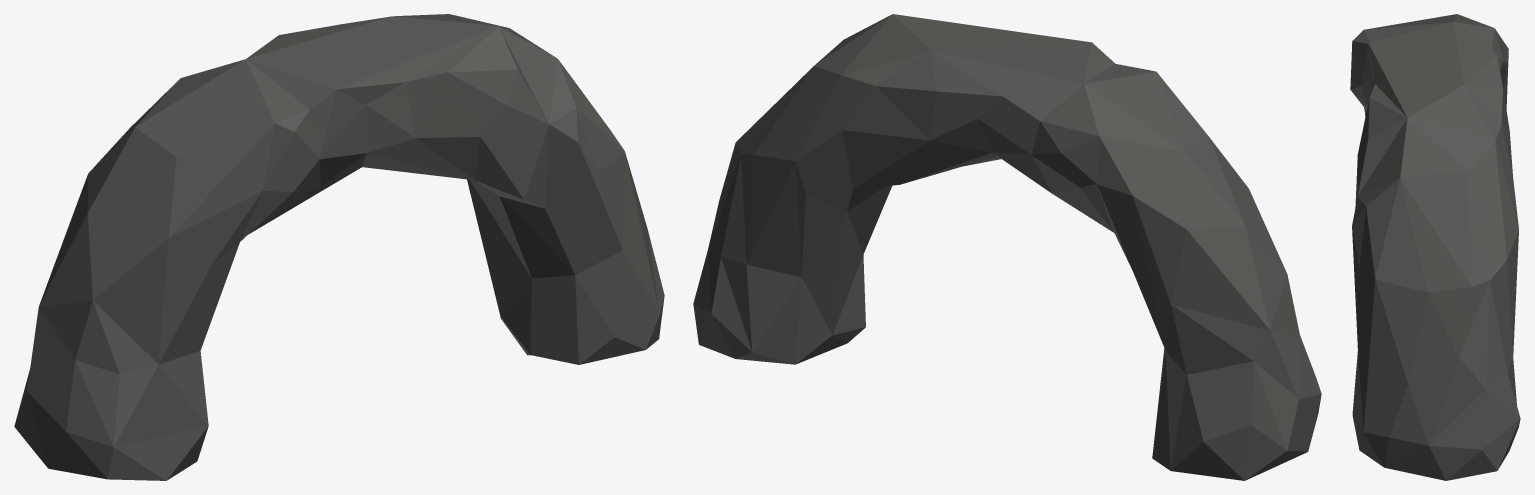
Rendered from SM_Envr_Nature_Rock_17.fbx.
3 views of the same model, side by side, from view 1: azimuth 30°, elevation 25°; view 2: azimuth 150°, elevation 25°; view 3: azimuth 270°, elevation 25° (orthographic). The views are drawn at different scales.
Visible parts, largest first — view 1: SM_Envr_Nature_Rock_17; view 2: SM_Envr_Nature_Rock_17; view 3: SM_Envr_Nature_Rock_17.
Boxes of the visible parts, bbox=[...] form: SM_Envr_Nature_Rock_17: bbox=[14, 14, 664, 480]; SM_Envr_Nature_Rock_17: bbox=[693, 14, 1321, 480]; SM_Envr_Nature_Rock_17: bbox=[1350, 14, 1520, 480].
Bounding box in the file's own units: 703 × 393 × 197.
